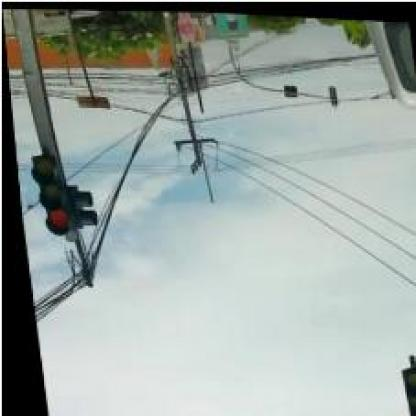red: (24, 152, 70, 237), (395, 363, 415, 414)
